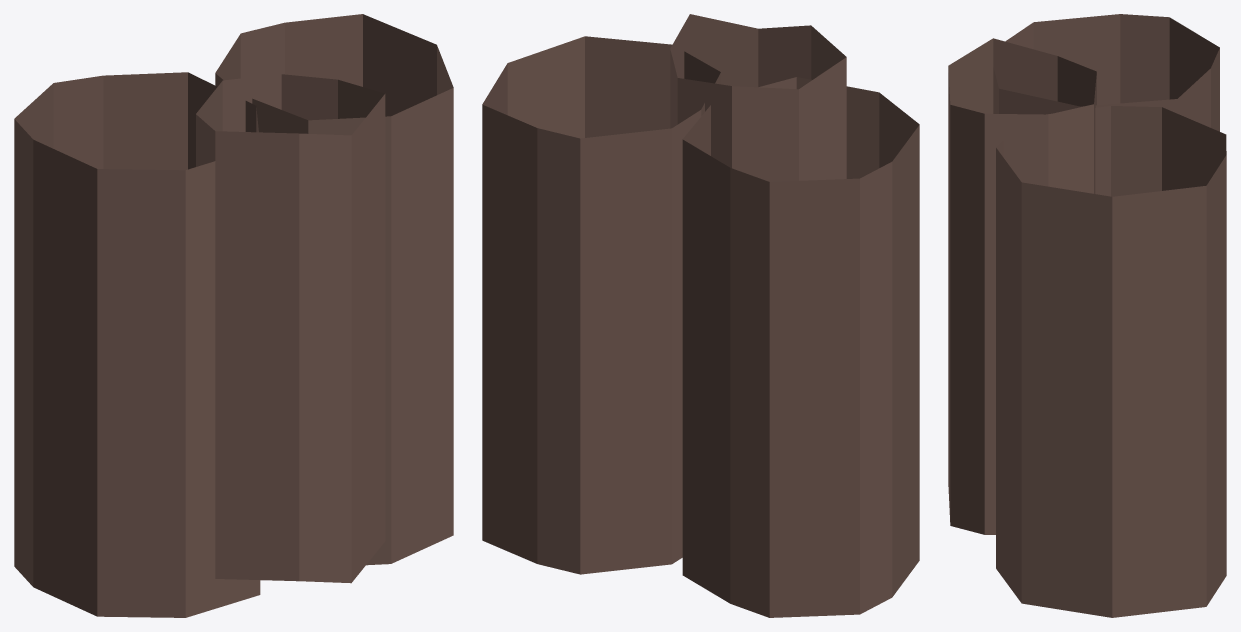
The picture shows the model from 3 angles, left to right: view 1: azimuth 30°, elevation 25°; view 2: azimuth 150°, elevation 25°; view 3: azimuth 270°, elevation 25°; orthographic projection. The views are drawn at different scales.
Visible parts, largest first — view 1: stone03.006; view 2: stone03.006; view 3: stone03.006.
Boxes of the visible parts, left/top/right/bottom form: stone03.006: left=14, top=14, right=453, bottom=617; stone03.006: left=482, top=14, right=919, bottom=617; stone03.006: left=948, top=14, right=1226, bottom=617.
Size of the model in its own units: 4001 by 4579 by 2564.
